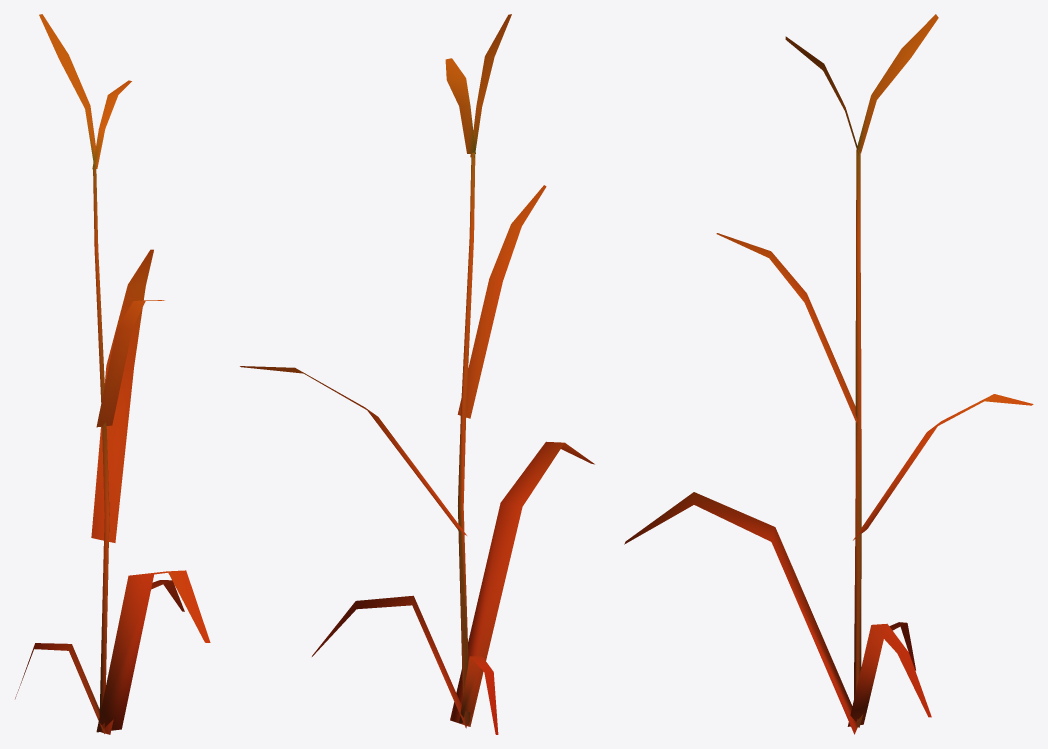
Rendered from SM_OatPlant_7.fbx.
The picture shows the model from 3 angles, left to right: view 1: azimuth 30°, elevation 25°; view 2: azimuth 150°, elevation 25°; view 3: azimuth 270°, elevation 25°; orthographic projection.
Visible parts, largest first — view 1: SM_OatPlant_7; view 2: SM_OatPlant_7; view 3: SM_OatPlant_7.
Part boxes in pixels (<box>): SM_OatPlant_7: <box>15,14,210,734</box>; SM_OatPlant_7: <box>240,14,594,734</box>; SM_OatPlant_7: <box>624,14,1033,734</box>.
Bounding box in the file's own units: 0.2908 × 0.9755 × 0.5171.
